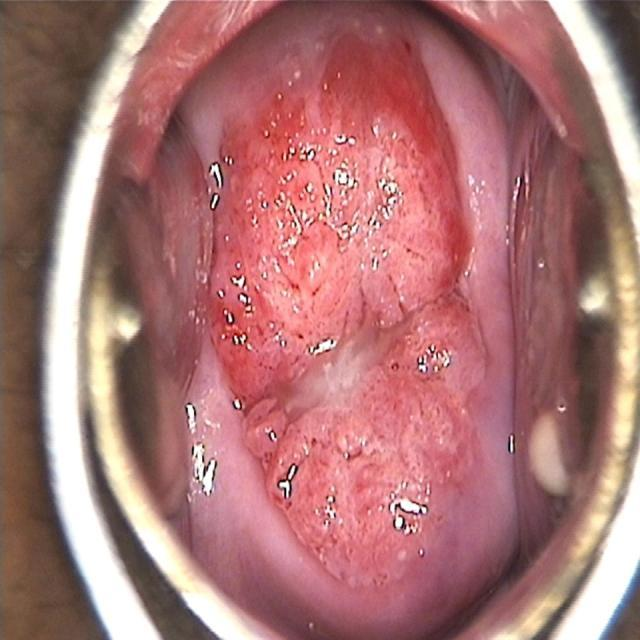cervical_lesion: (152, 18, 504, 608)
